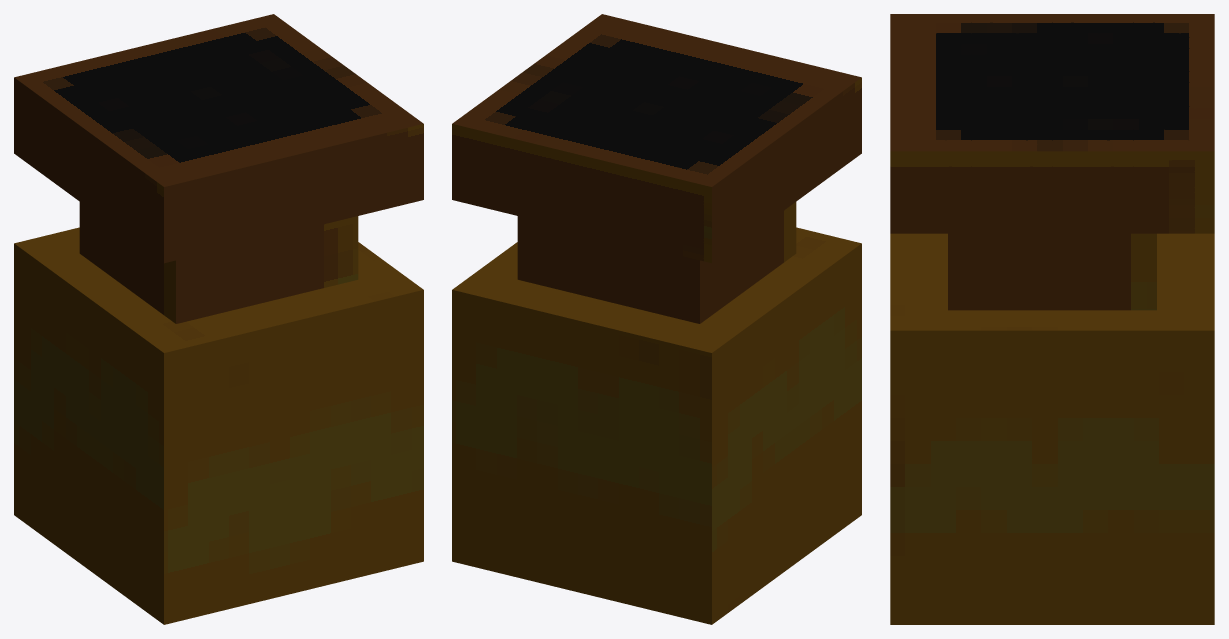
File: urn.obj
3 views of the same model, side by side, from view 1: azimuth 30°, elevation 25°; view 2: azimuth 150°, elevation 25°; view 3: azimuth 270°, elevation 25° (orthographic). The views are drawn at different scales.
Parts seen in each view (by area): view 1: Cube, Cube.002, Cube.001; view 2: Cube, Cube.002, Cube.001; view 3: Cube, Cube.002, Cube.001.
Boxes of the visible parts, left/top/right/bottom form: Cube: left=14, top=227, right=423, bottom=624; Cube.002: left=14, top=14, right=423, bottom=263; Cube.001: left=79, top=202, right=358, bottom=323; Cube: left=452, top=227, right=861, bottom=624; Cube.002: left=452, top=14, right=861, bottom=263; Cube.001: left=517, top=202, right=796, bottom=323; Cube: left=890, top=233, right=1214, bottom=624; Cube.002: left=890, top=14, right=1214, bottom=233; Cube.001: left=948, top=233, right=1156, bottom=310.
Bounding box in the file's own units: 0.8509 × 1.37 × 0.8509.
